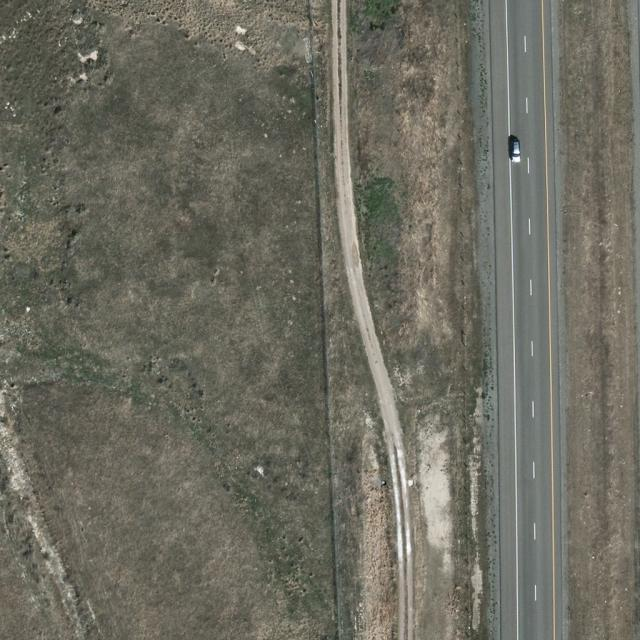vehicle: (509, 138, 522, 164)
